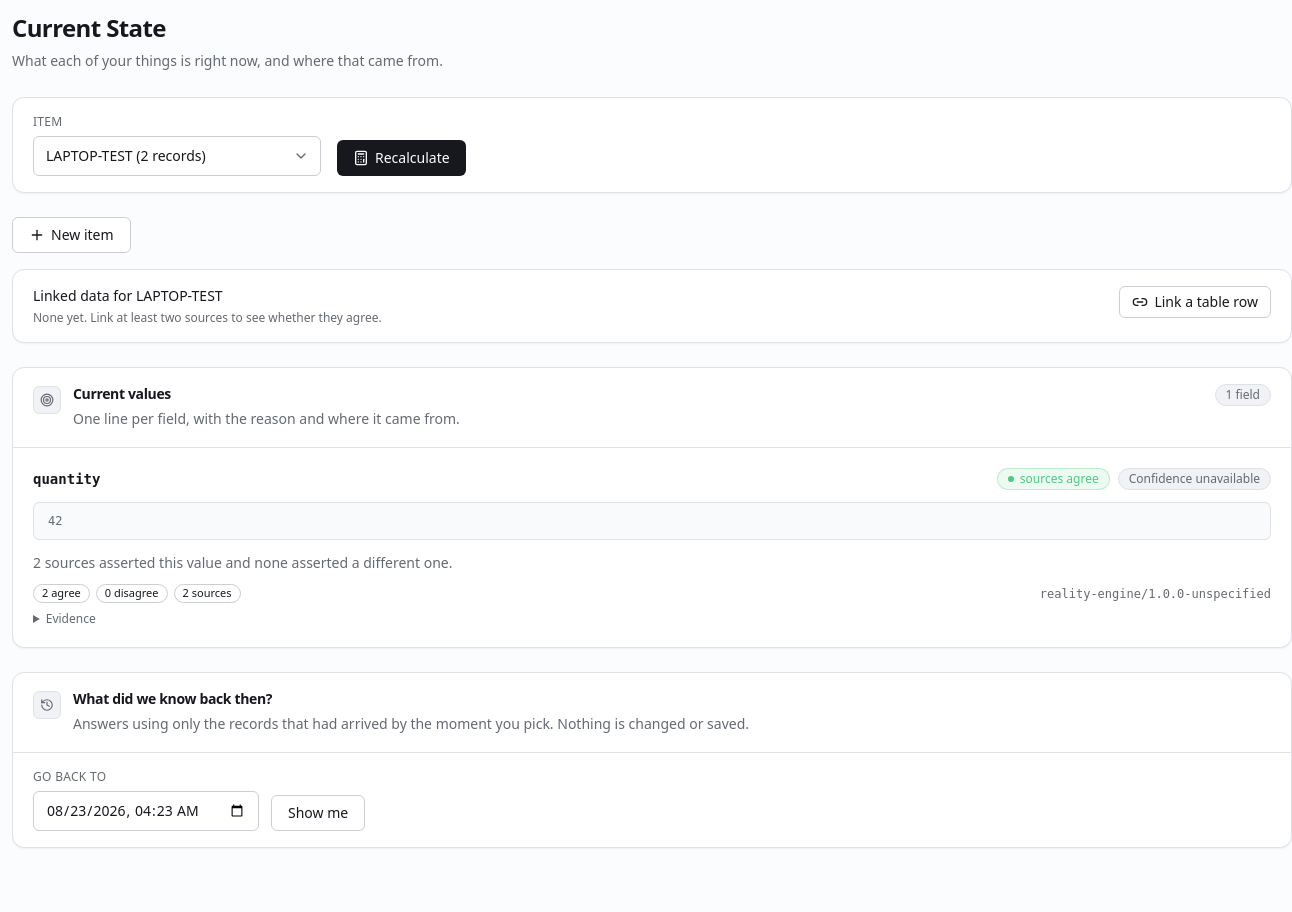
Scenario: Reality page › reports an evidence load failure without breaking the page
Check: the dropdown labelled "Item" is shown, box [33,136,321,176]
Click the heading "Evidence": (71, 618) [46,610,96,627]
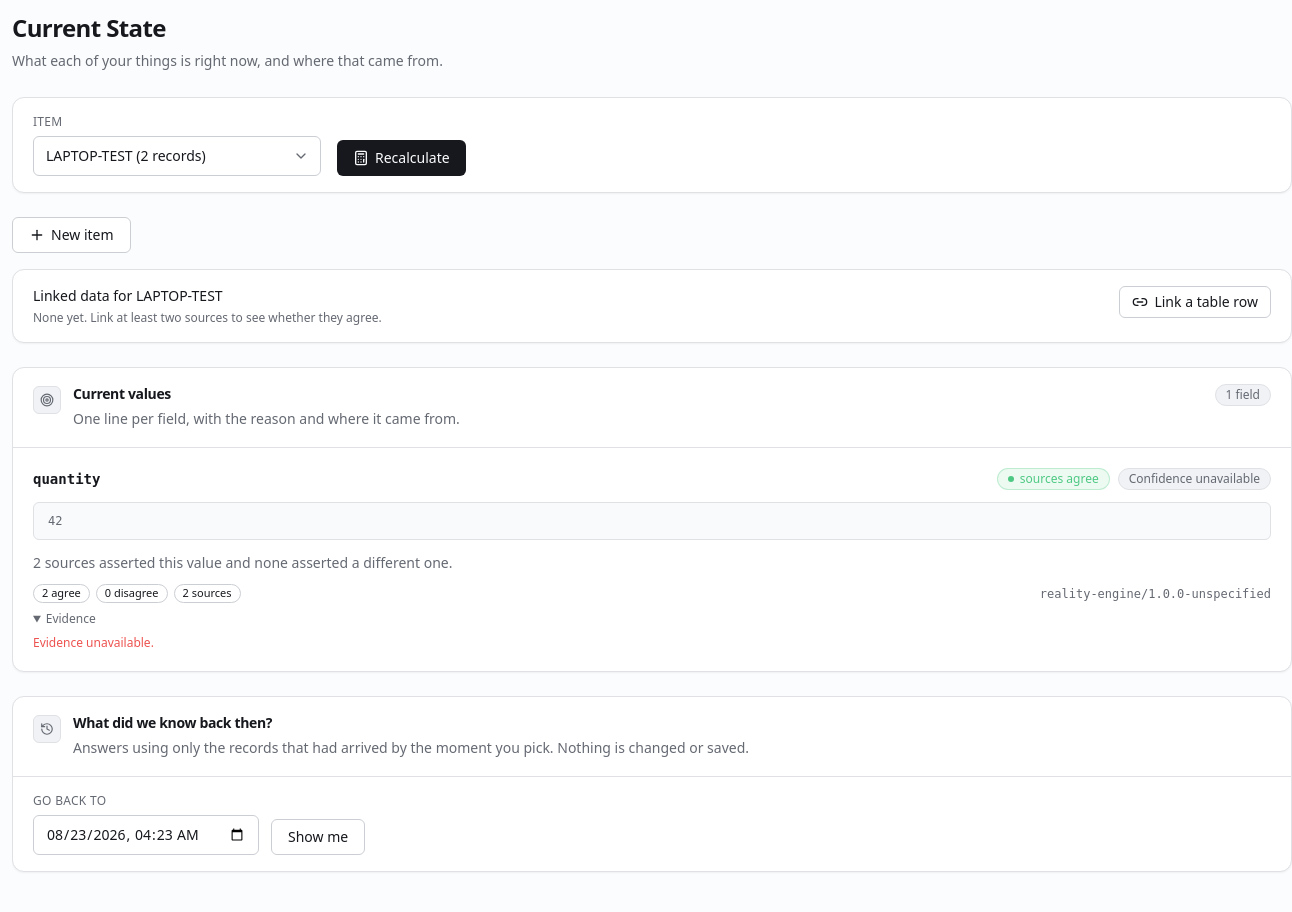
Check: the heading "quantity" is shown, box [33,468,100,488]
Check: the message "Evidence unavailable." is shown, box [33,634,154,651]
